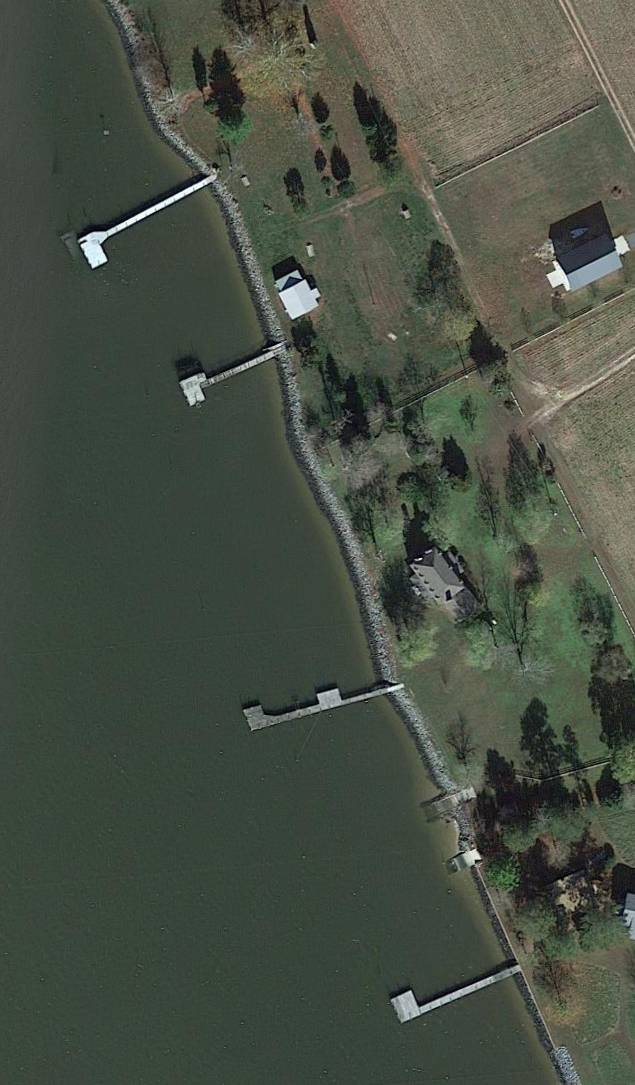harbor: (78, 178, 205, 271), (387, 954, 507, 1028), (244, 672, 383, 732), (179, 343, 278, 409)
